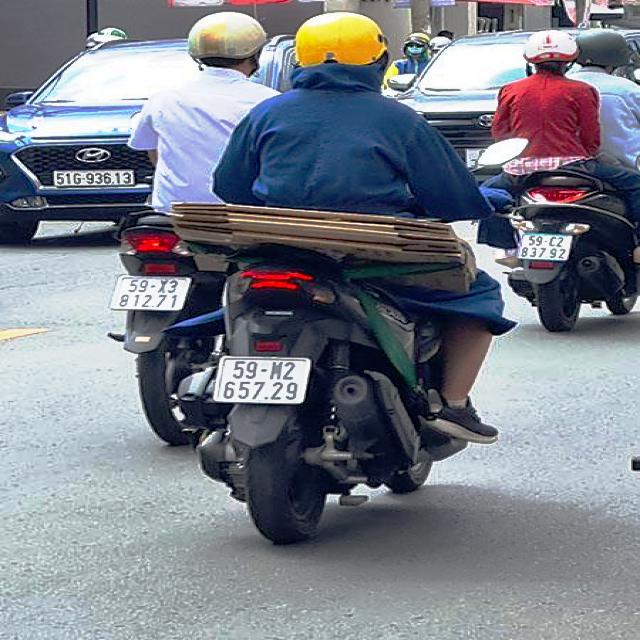license_plate: (215, 359, 312, 403), (113, 277, 194, 312), (517, 236, 575, 262), (53, 172, 136, 188)
